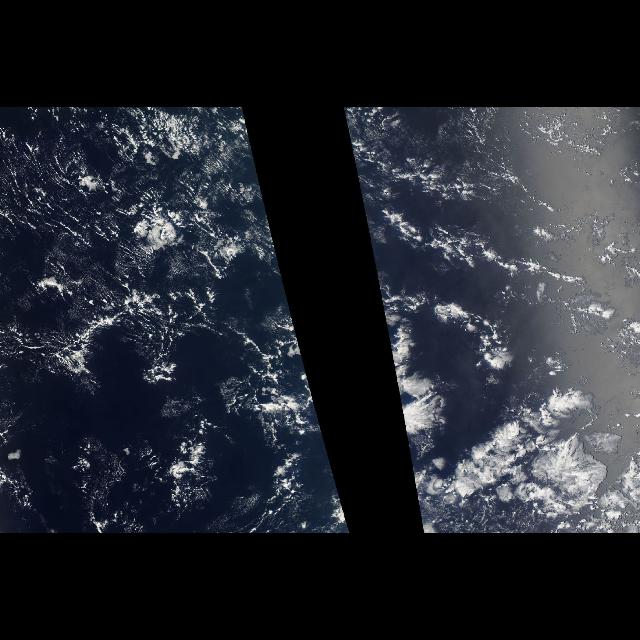Flower: (454, 384, 626, 530)
